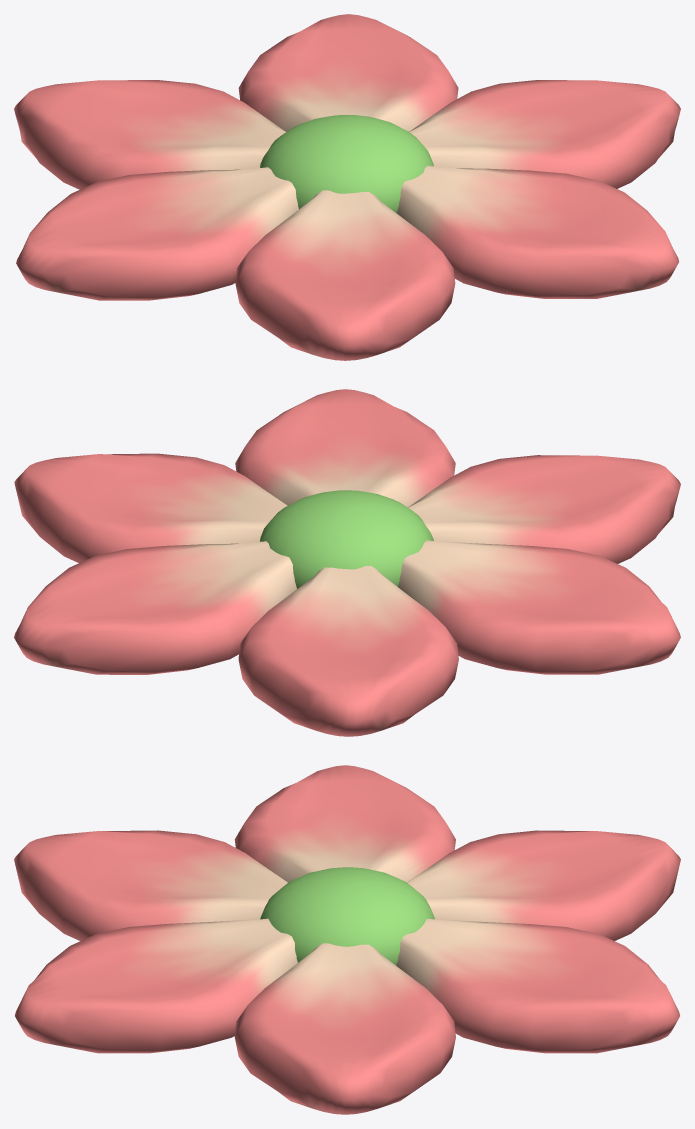
Rendered from hoa6.fbx.
3 views of the same model, one above another, from view 1: azimuth 30°, elevation 25°; view 2: azimuth 150°, elevation 25°; view 3: azimuth 270°, elevation 25° (orthographic).
Visible parts, largest first — view 1: polySurface84, pasted__polySurface81, polySurface83, polySurface81, pasted__polySurface82, polySurface82, polySurface33; view 2: polySurface82, pasted__polySurface81, polySurface81, pasted__polySurface82, polySurface83, polySurface84, polySurface33; view 3: polySurface82, polySurface84, pasted__polySurface82, polySurface83, polySurface81, pasted__polySurface81, polySurface33.
Boxes of the visible parts, x1=… form: polySurface84: x1=396, y1=165, x2=678, y2=298; pasted__polySurface81: x1=16, y1=167, x2=298, y2=300; polySurface83: x1=235, y1=190, x2=455, y2=360; polySurface81: x1=14, y1=80, x2=285, y2=189; pasted__polySurface82: x1=409, y1=80, x2=680, y2=188; polySurface82: x1=238, y1=14, x2=458, y2=131; polySurface33: x1=260, y1=115, x2=433, y2=212; polySurface82: x1=14, y1=541, x2=296, y2=674; pasted__polySurface81: x1=398, y1=540, x2=680, y2=674; polySurface81: x1=238, y1=565, x2=458, y2=736; pasted__polySurface82: x1=14, y1=453, x2=287, y2=562; polySurface83: x1=408, y1=455, x2=680, y2=563; polySurface84: x1=235, y1=389, x2=455, y2=507; polySurface33: x1=260, y1=490, x2=433, y2=588; polySurface82: x1=396, y1=918, x2=679, y2=1053; polySurface84: x1=15, y1=918, x2=297, y2=1053; pasted__polySurface82: x1=234, y1=943, x2=455, y2=1114; polySurface83: x1=14, y1=830, x2=287, y2=940; polySurface81: x1=407, y1=830, x2=680, y2=940; pasted__polySurface81: x1=234, y1=765, x2=455, y2=882; polySurface33: x1=260, y1=867, x2=434, y2=965.
Size of the model in its own units: 89.33 by 12.42 by 77.57.
Materials: 1 (1 with a texture image).
